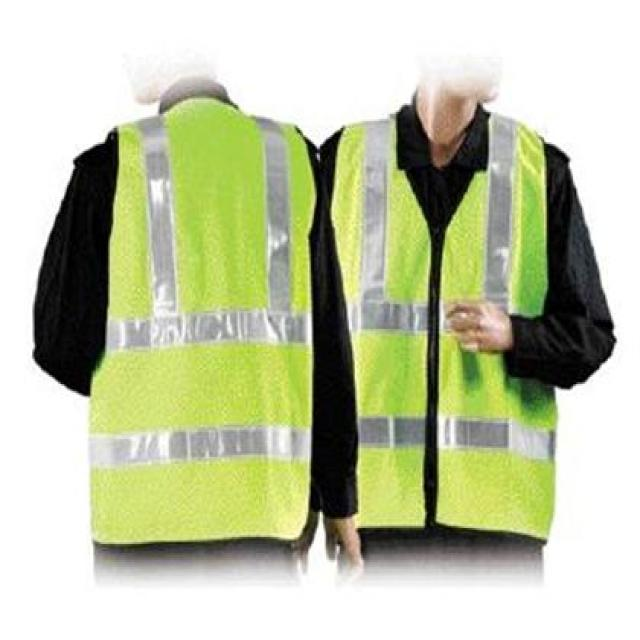Reflective-Jacket: (67, 84, 328, 566), (318, 107, 576, 553)
